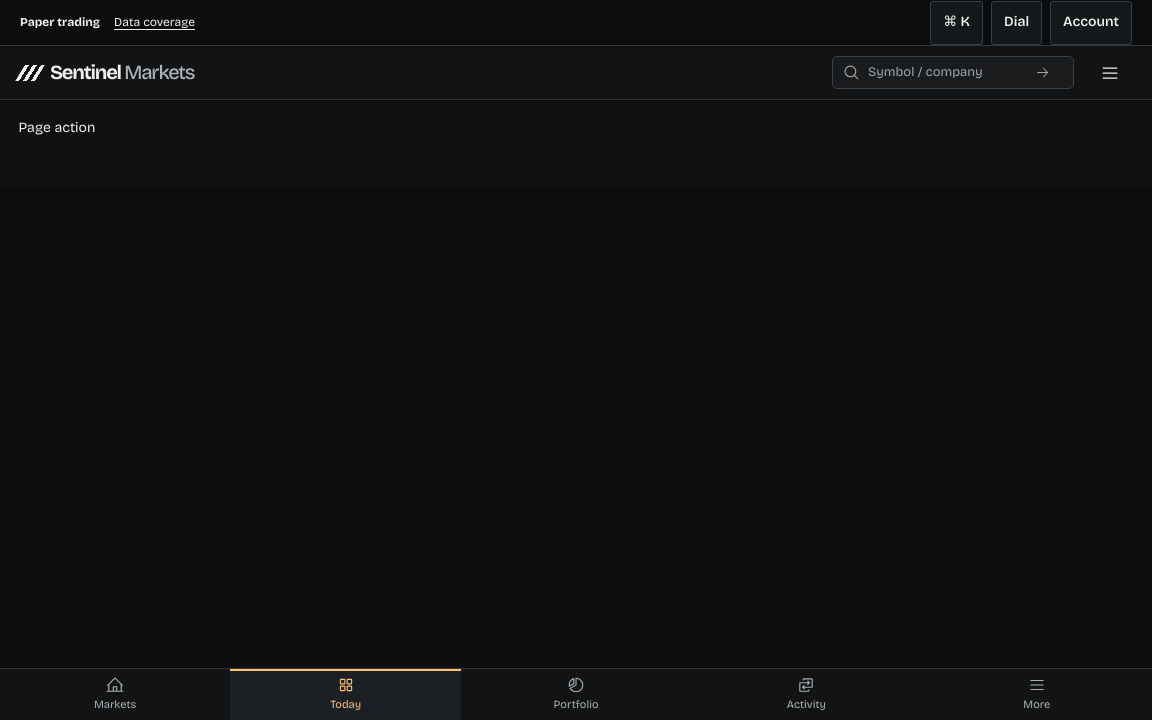
Test case: mobile shell › closes a mobile modal on desktop resize and preserves role-specific navigation
Click the button named "Open navigation".
click(1110, 72)  # box 1088,50 -> 1132,94
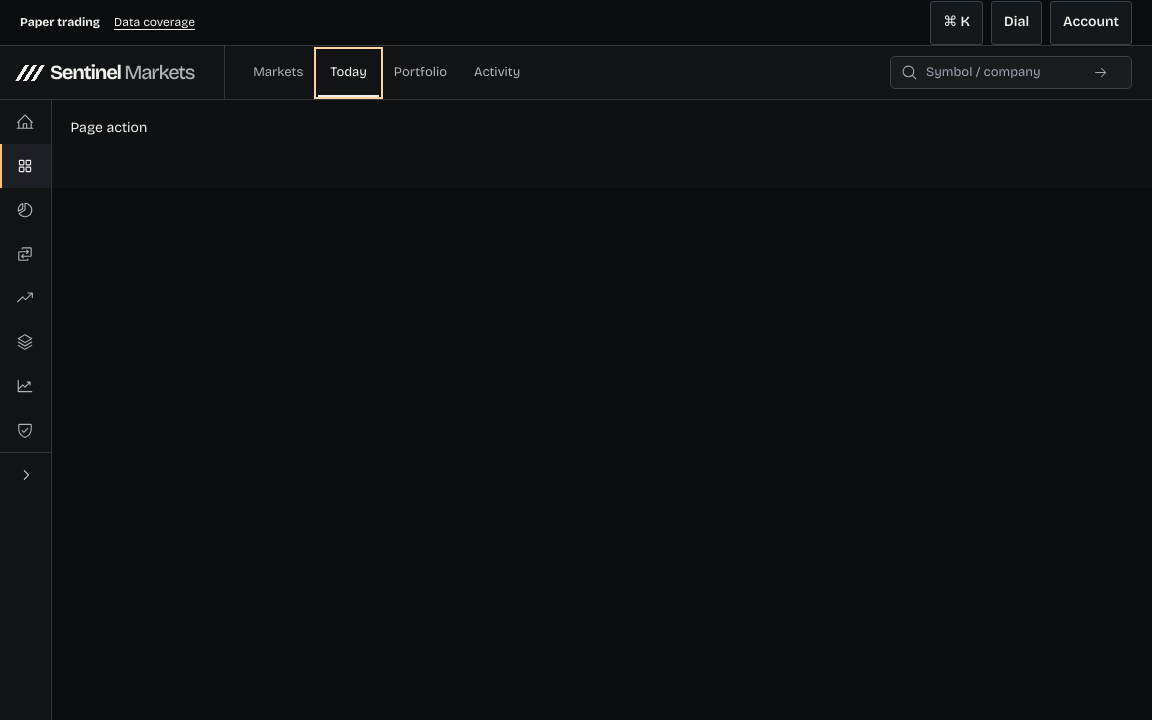
Expected: the link named "Compliance" is shown, 0,408 -> 51,452
